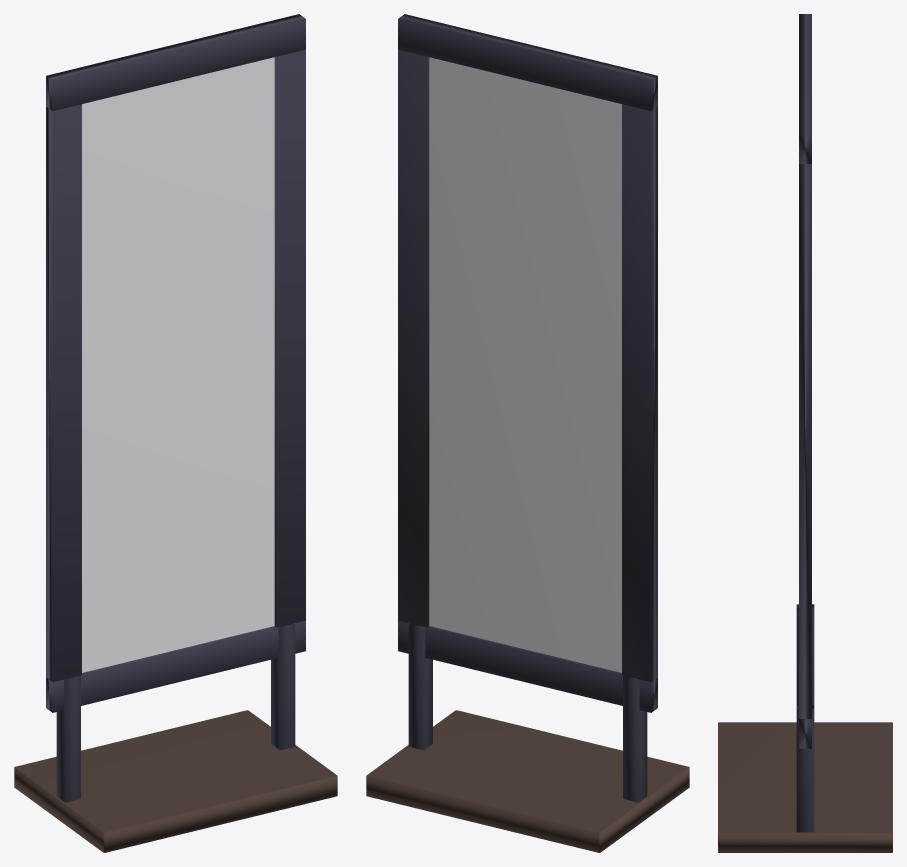
The picture shows the model from 3 angles, left to right: view 1: azimuth 30°, elevation 25°; view 2: azimuth 150°, elevation 25°; view 3: azimuth 270°, elevation 25°; orthographic projection. The views are drawn at different scales.
Size of the model in its own units: 0.65 by 1.82 by 0.4.
